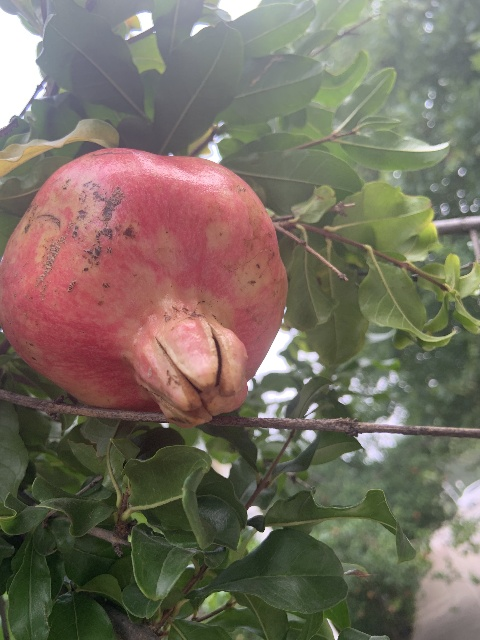ripe: (0, 145, 287, 426)
